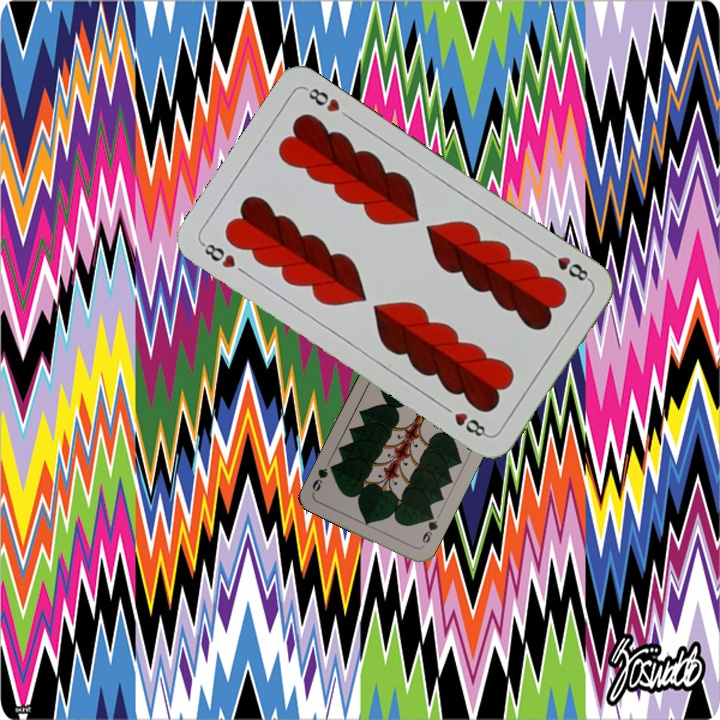G9: (417, 510, 440, 550)
H8: (541, 246, 594, 285), (197, 239, 238, 271)
